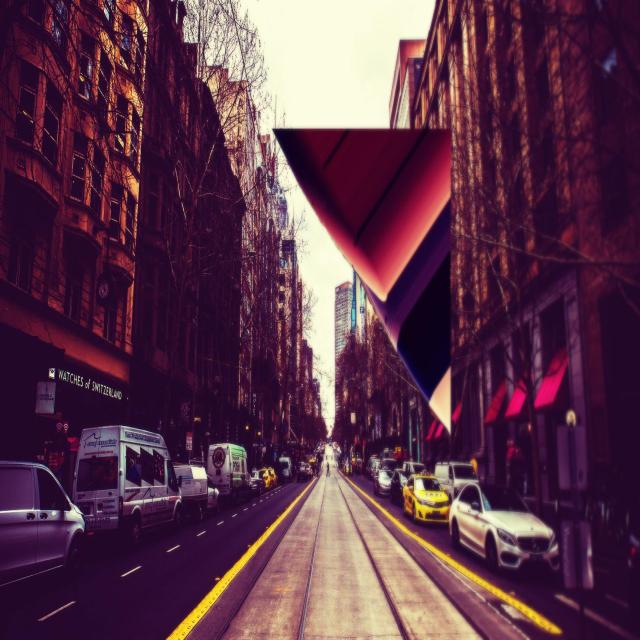airplane: (271, 127, 450, 432)
